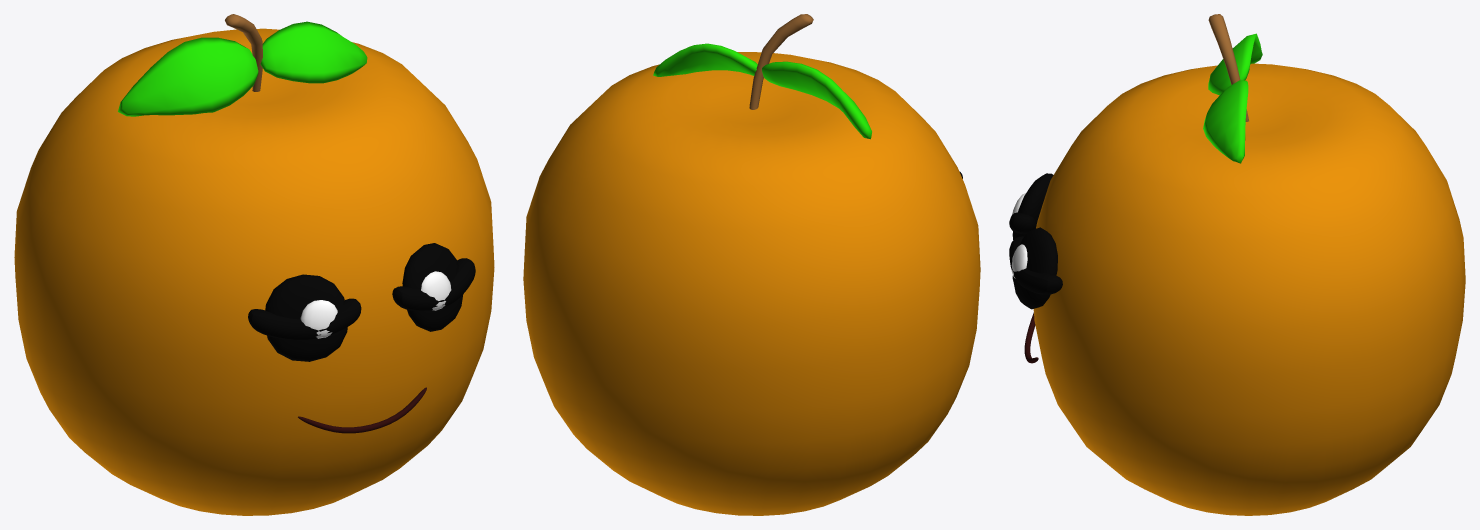
File: Orange.fbx
3 views of the same model, side by side, from view 1: azimuth 30°, elevation 25°; view 2: azimuth 150°, elevation 25°; view 3: azimuth 270°, elevation 25° (orthographic). The views are drawn at different scales.
Visible parts, largest first — view 1: Sphere.002, Eyes.003, Blink_eyes.003; view 2: Sphere.002; view 3: Sphere.002, Eyes.003, Blink_eyes.003.
Boxes of the visible parts, x1=… form: Sphere.002: x1=14, y1=14, x2=494, y2=515; Eyes.003: x1=265, y1=243, x2=463, y2=361; Blink_eyes.003: x1=248, y1=258, x2=475, y2=339; Sphere.002: x1=523, y1=14, x2=980, y2=515; Sphere.002: x1=1024, y1=14, x2=1465, y2=515; Eyes.003: x1=1011, y1=173, x2=1057, y2=309; Blink_eyes.003: x1=1009, y1=212, x2=1062, y2=294.
Bounding box in the file's own units: 183 × 207 × 186.
